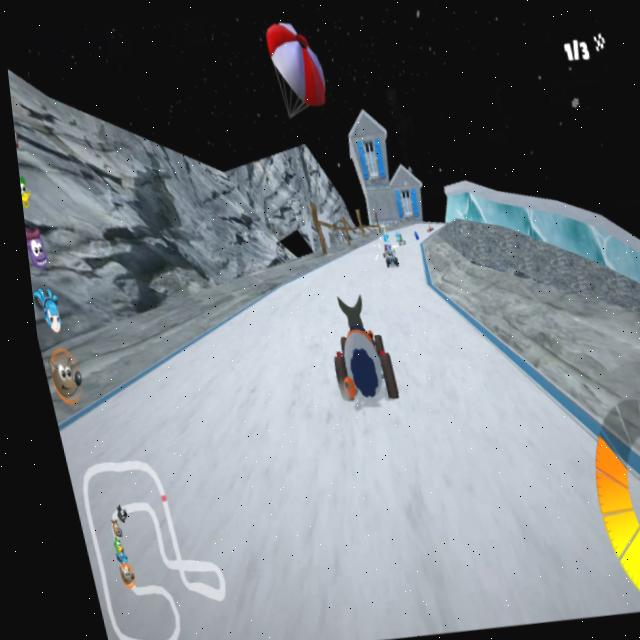nitro: (406, 229, 417, 241)
player_kart: (307, 283, 394, 404), (374, 245, 395, 271)
